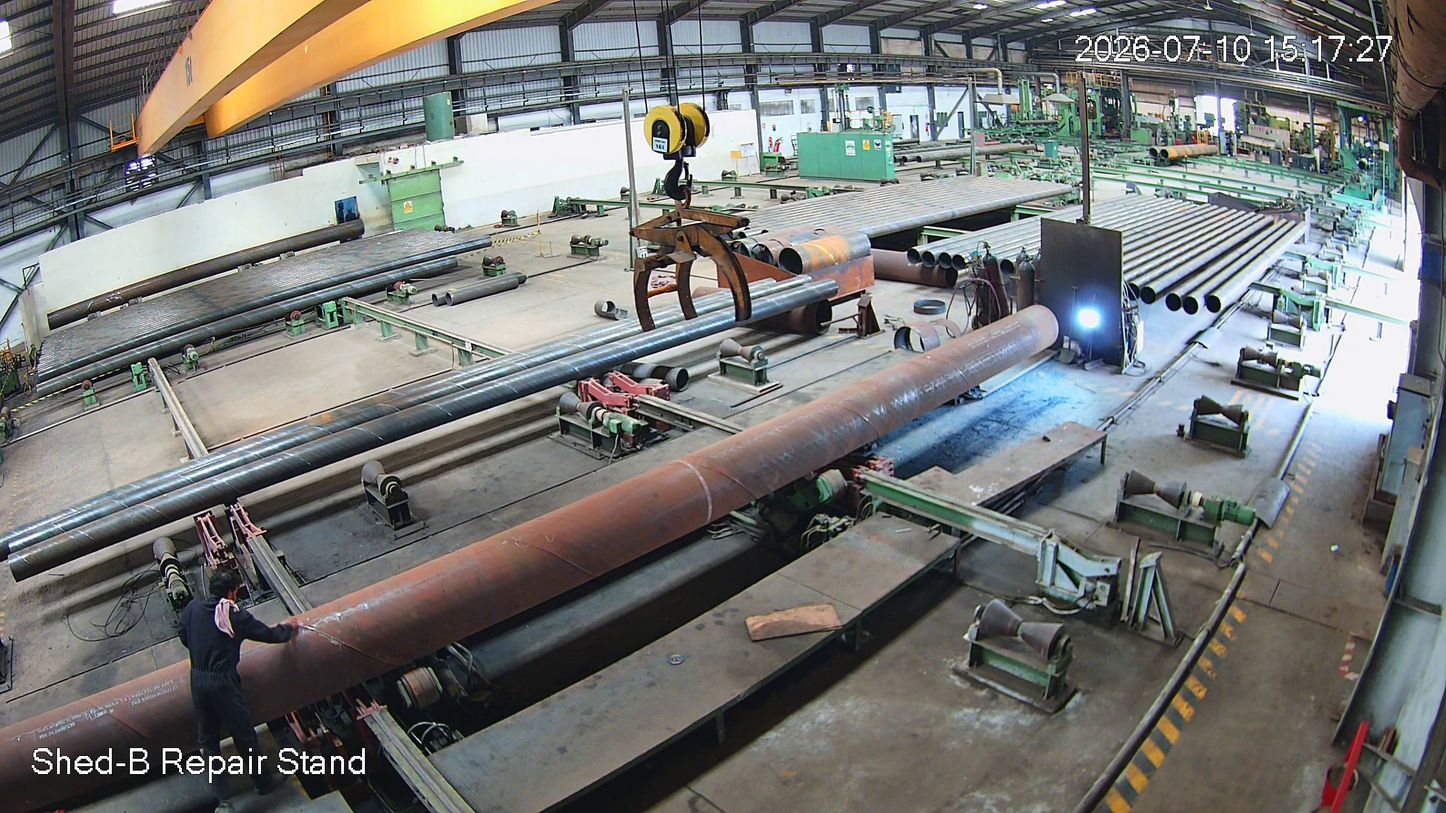Person: (174, 557, 331, 813)
